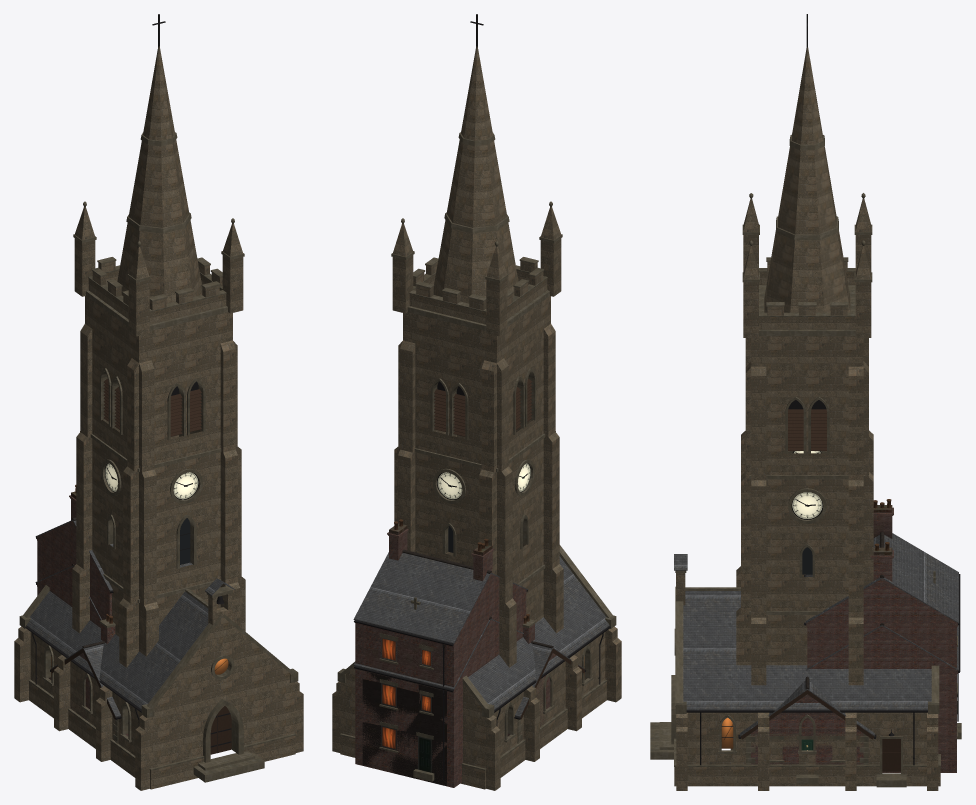
Rendered from kit.glb.
The picture shows the model from 3 angles, left to right: view 1: azimuth 30°, elevation 25°; view 2: azimuth 150°, elevation 25°; view 3: azimuth 270°, elevation 25°; orthographic projection. The views are drawn at different scales.
Visible parts, largest first — view 1: church_tower, chapel_of_rest, gable_3_left, sextons_lodge, gable_2_left, church_tower.clock.0; view 2: church_tower, chapel_of_rest, house_shop, house_2_far, gable_3_left, house_bay, house_3_far, sextons_lodge, gable_3_left_far, gable_3_right, gable_2_left, gable_2_right (+1 smaller); view 3: church_tower, chapel_of_rest, gable_3_right, sextons_lodge, gable_2_right, house_shop, gable_3_right_far, gable_2_right_far, church_tower.clock.1.
Part boxes in pixels (<box>): church_tower: <box>72,14,245,667</box>; chapel_of_rest: <box>14,578,303,790</box>; gable_3_left: <box>35,517,113,619</box>; sextons_lodge: <box>50,614,128,743</box>; gable_2_left: <box>35,564,101,679</box>; church_tower.clock.0: <box>173,472,198,499</box>; church_tower: <box>391,14,563,667</box>; chapel_of_rest: <box>332,545,621,790</box>; house_shop: <box>361,538,494,779</box>; house_2_far: <box>362,672,446,785</box>; gable_3_left: <box>445,570,527,787</box>; house_bay: <box>361,665,446,786</box>; house_3_far: <box>362,545,492,785</box>; sextons_lodge: <box>507,614,585,743</box>; gable_3_left_far: <box>454,592,522,782</box>; gable_3_right: <box>353,519,408,765</box>; gable_2_left: <box>445,616,523,787</box>; gable_2_right: <box>353,662,362,765</box>; church_tower: <box>730,14,873,750</box>; chapel_of_rest: <box>650,554,940,790</box>; gable_3_right: <box>804,542,960,772</box>; sextons_lodge: <box>738,676,876,784</box>; gable_2_right: <box>806,623,960,772</box>; house_shop: <box>805,499,960,721</box>; gable_3_right_far: <box>807,547,956,769</box>; gable_2_right_far: <box>883,669,956,772</box>; church_tower.clock.1: <box>791,492,823,519</box>.
Bounding box in the file's own units: 10.6 × 43.4 × 16.65.
19 materials, 17 textured.
